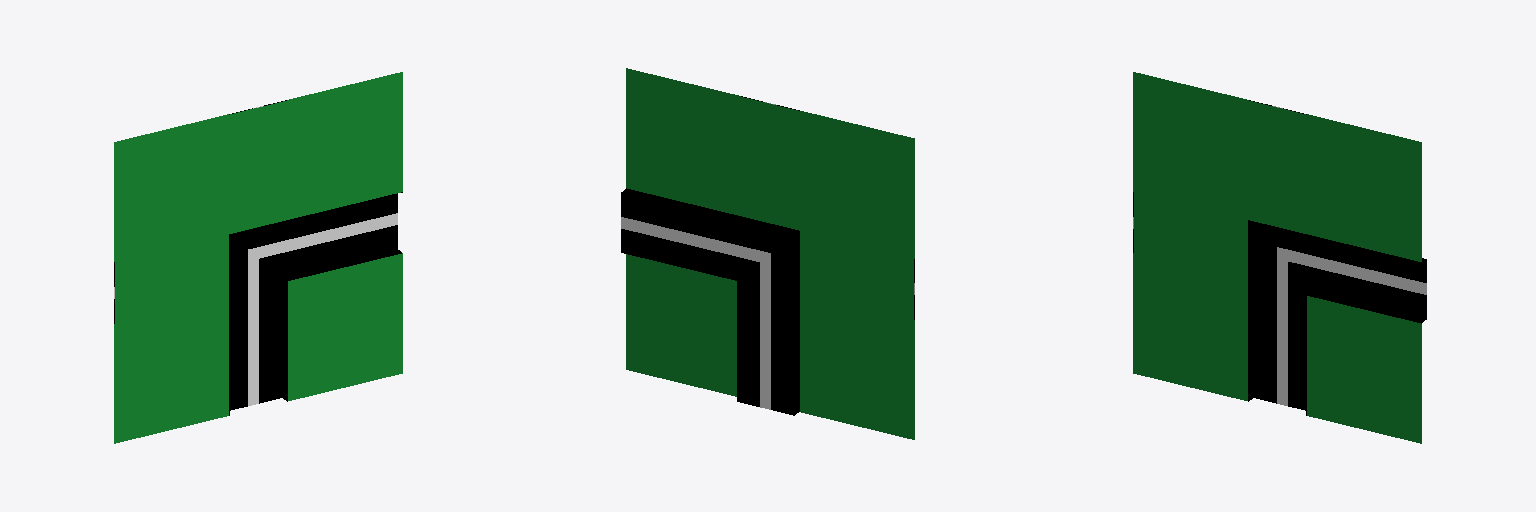
3 renders of one model, left to right at view 1: azimuth 30°, elevation 25°; view 2: azimuth 150°, elevation 25°; view 3: azimuth 330°, elevation 25°, orthographic.
Parts seen in each view (by area): view 1: Plane; view 2: Plane; view 3: Plane.
Boxes of the visible parts, x1=… form: Plane: x1=114, y1=72, x2=402, y2=443; Plane: x1=621, y1=68, x2=914, y2=439; Plane: x1=1133, y1=72, x2=1426, y2=443.
Bounding box in the file's own units: 10 × 10 × 0.3.
Materials: 1 (1 with a texture image).